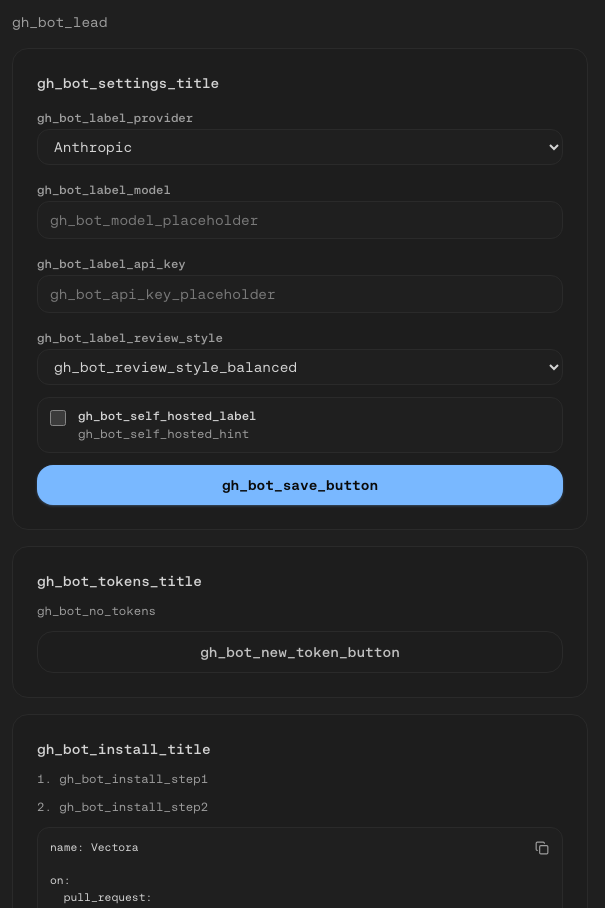
it: GhBotSection › gera um token novo, mostra o segredo uma vez e recarrega a lista
Step 1. Click the button "gh_bot_new_token_button" → (300, 652), box [37,631,563,673]
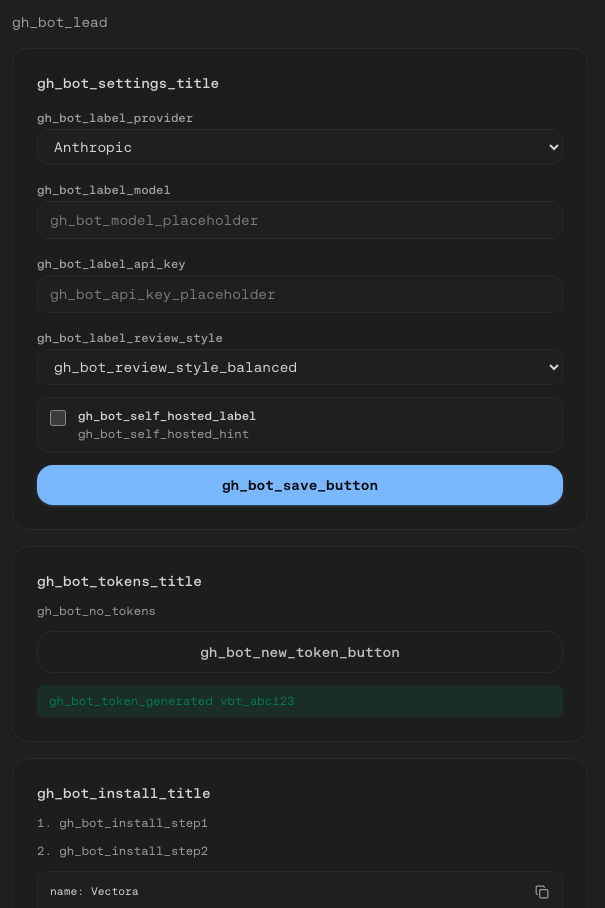
Now the text "gh_bot_token_generated vbt_abc123" is shown, box [37,685,563,717]
